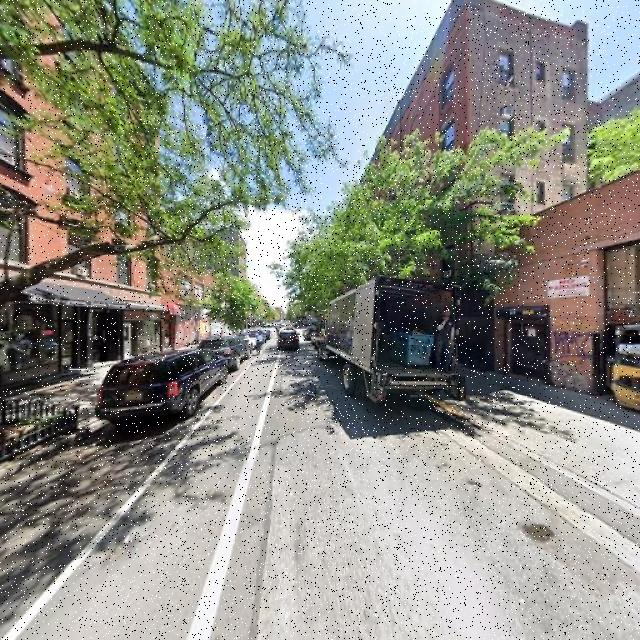Building: (492, 184, 640, 409), (1, 8, 48, 393)
